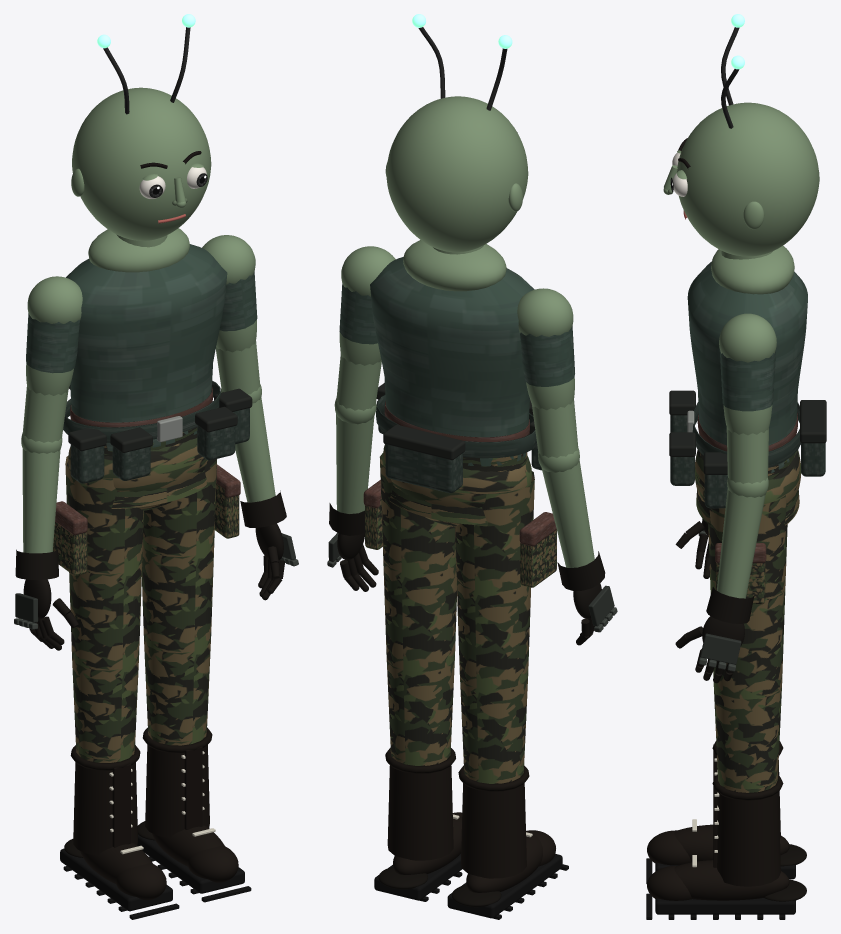
File: 01-mutant-a-antennes.glb
3 renders of one model, left to right at view 1: azimuth 30°, elevation 25°; view 2: azimuth 150°, elevation 25°; view 3: azimuth 270°, elevation 25°, orthographic.
Size of what is drawn, in the model's own units: 0.6344 by 1.91 by 0.3656.
26 materials, 5 textured.
